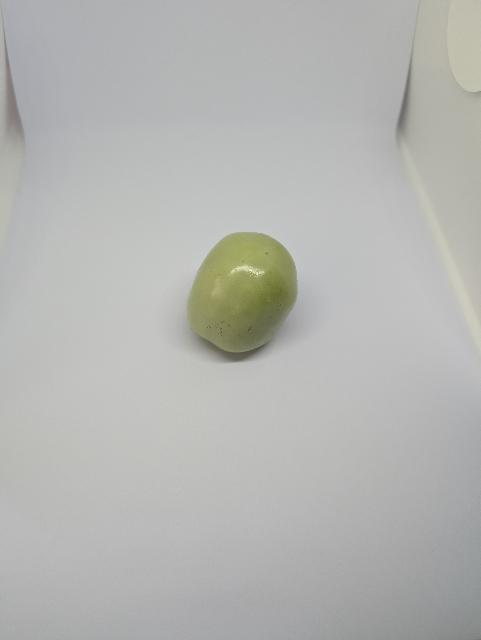green: (156, 222, 321, 365)
